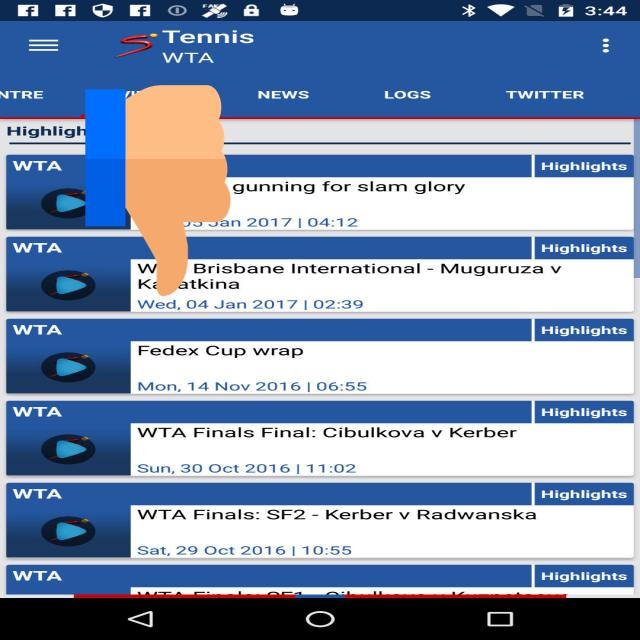obstruction: (86, 80, 230, 301)
